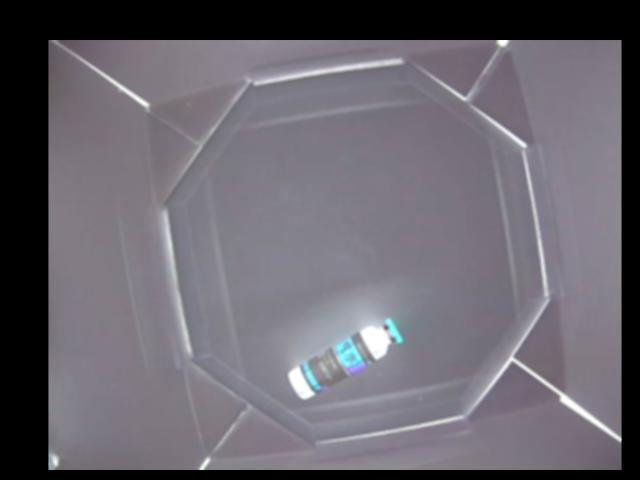Medicine: (290, 318, 402, 400)
